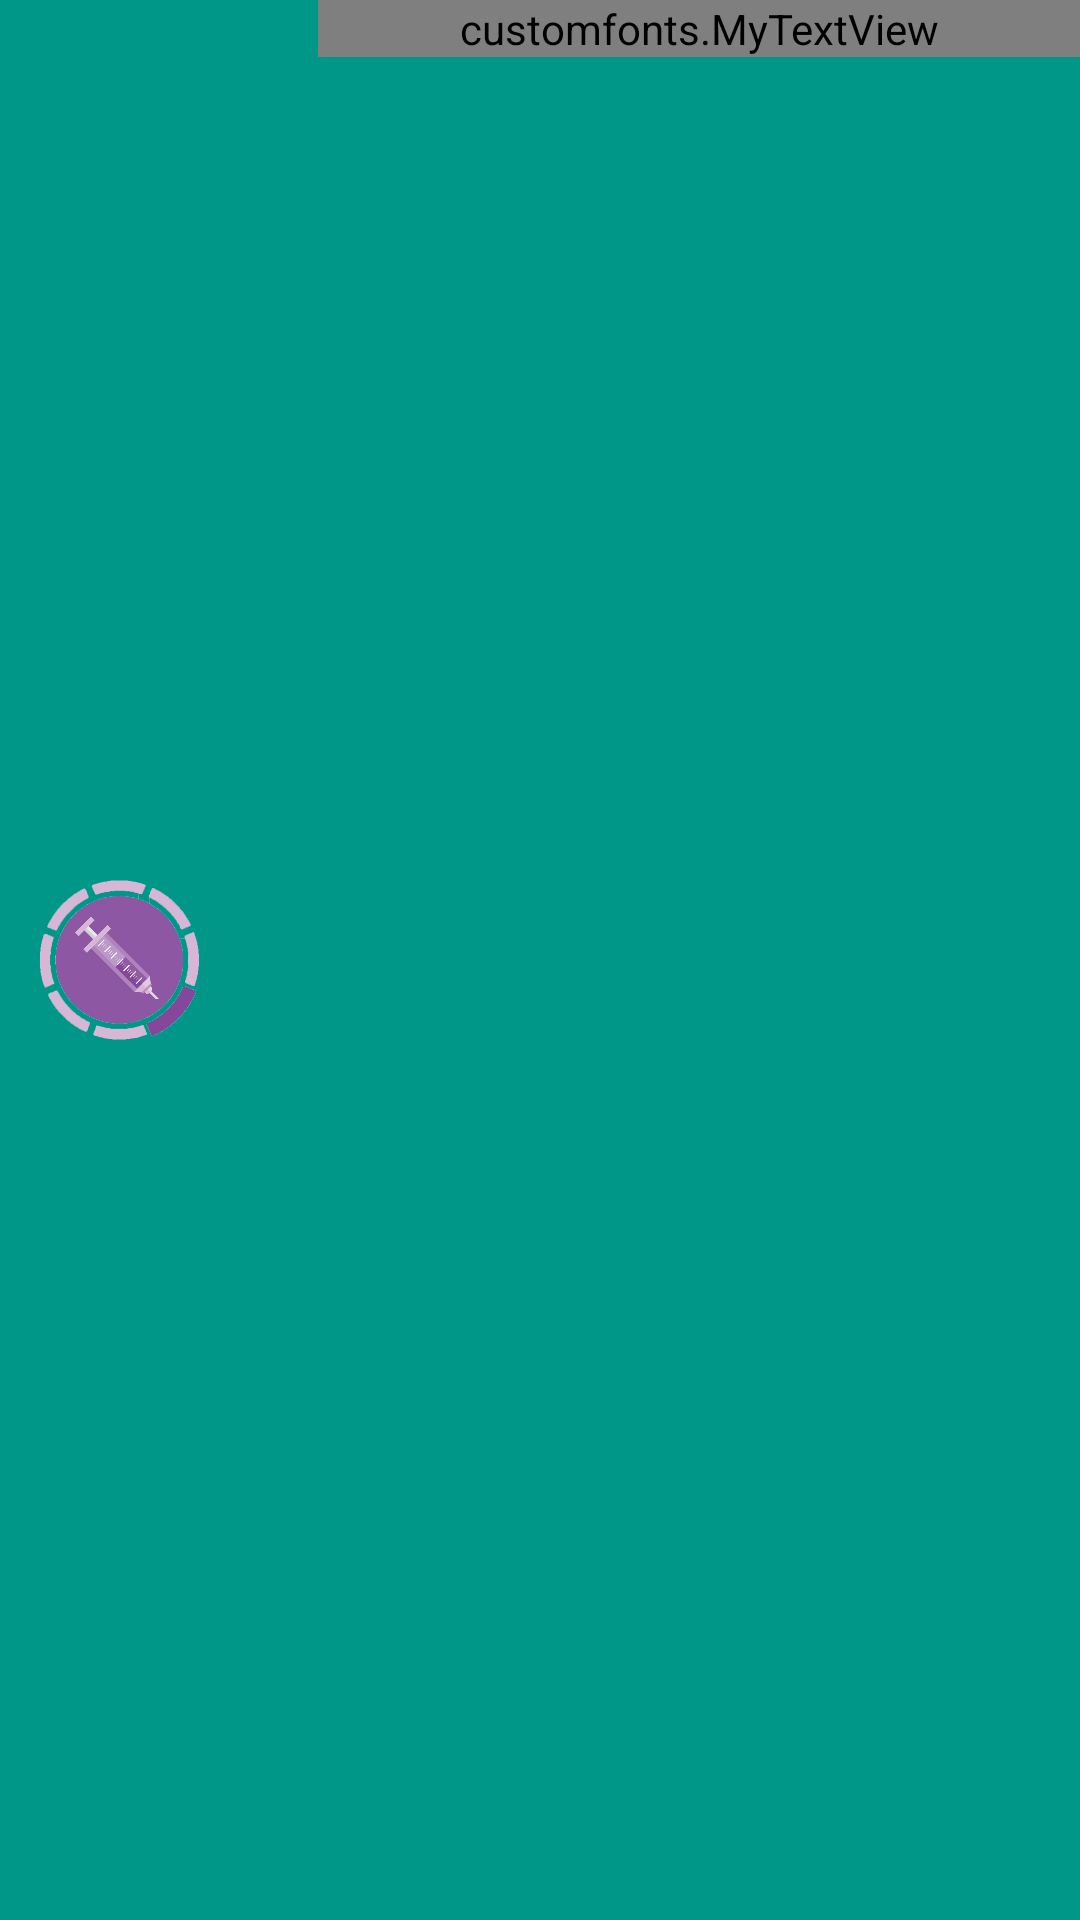

Icons on this 1080 × 1920 Android screen, each with its box as rect(x1, y1, x2, y2):
injection: rect(40, 880, 199, 1040)
